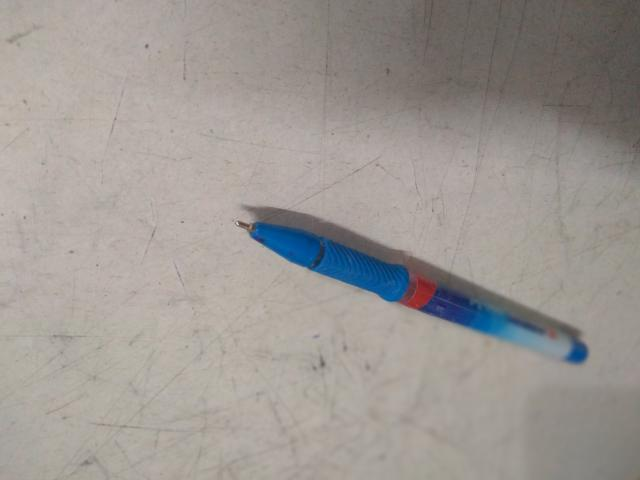PEN: (46, 112, 409, 274)
